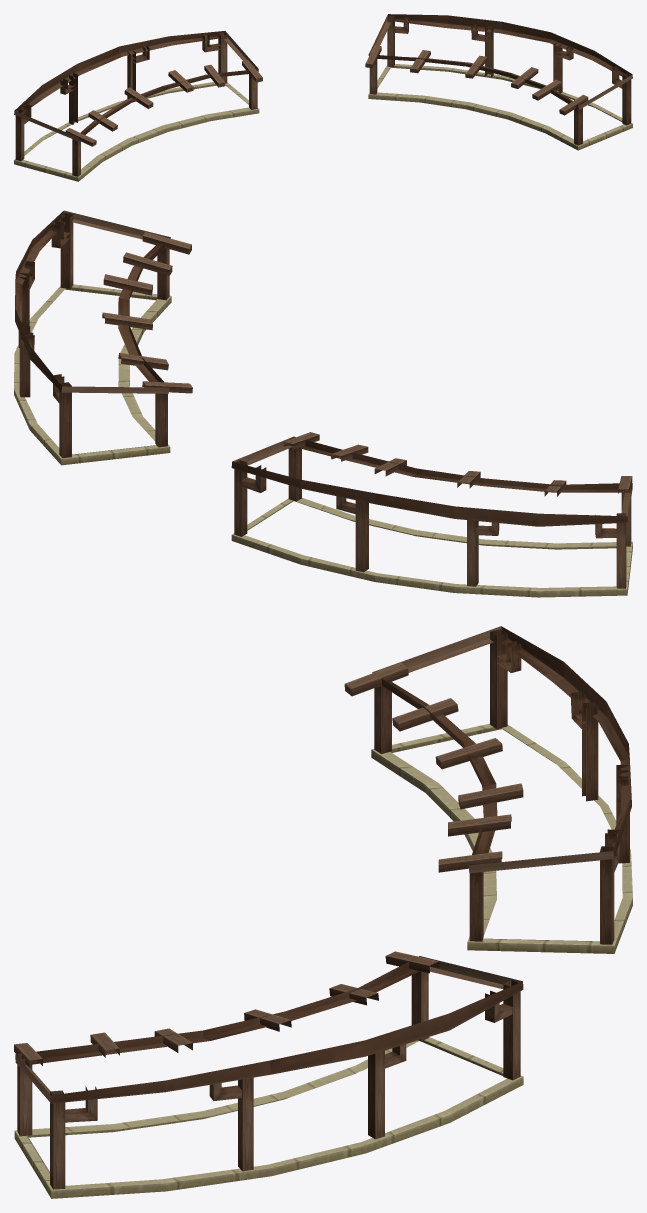
The model's file is Area_06_41.fbx.
3 renders of one model, top to bottom at view 1: azimuth 30°, elevation 25°; view 2: azimuth 150°, elevation 25°; view 3: azimuth 270°, elevation 25°, orthographic. The views are drawn at different scales.
Visible parts, largest first — view 1: Area_06_41; view 2: Area_06_41; view 3: Area_06_41.
Boxes of the visible parts, <box> form: Area_06_41: <box>14,14,632,181</box>; Area_06_41: <box>14,210,632,597</box>; Area_06_41: <box>14,626,632,1198</box>.
Size of the model in its own units: 4783 by 546 by 2663.
